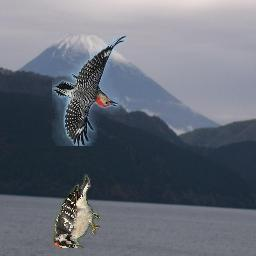Woodpecker: (52, 36, 126, 147), (52, 174, 101, 248)
